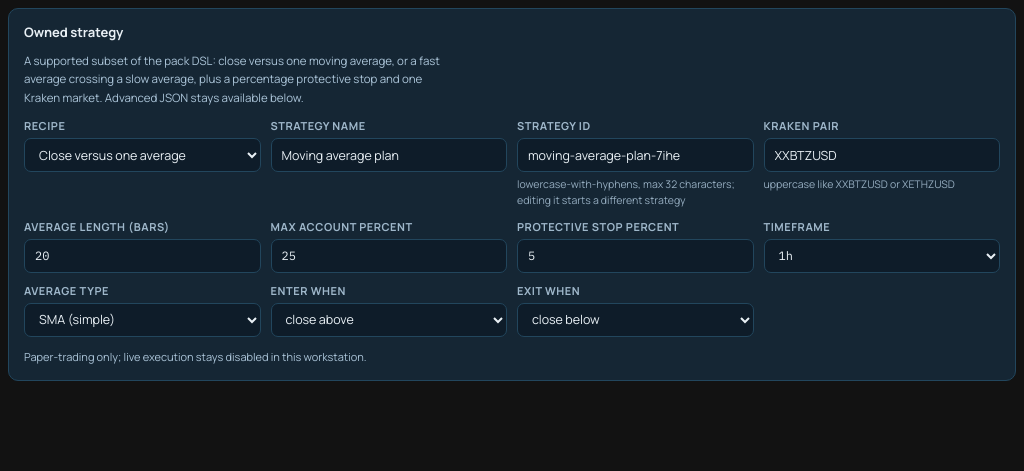
Test: OwnedStrategyForm › refuses a crossover with a fast period at or above the slow period
The image size is (1024, 471).
Select "Two-average crossover (fast vs slow)" in the dropdown labelled "Recipe" at (142, 155), box [24,138,260,172]
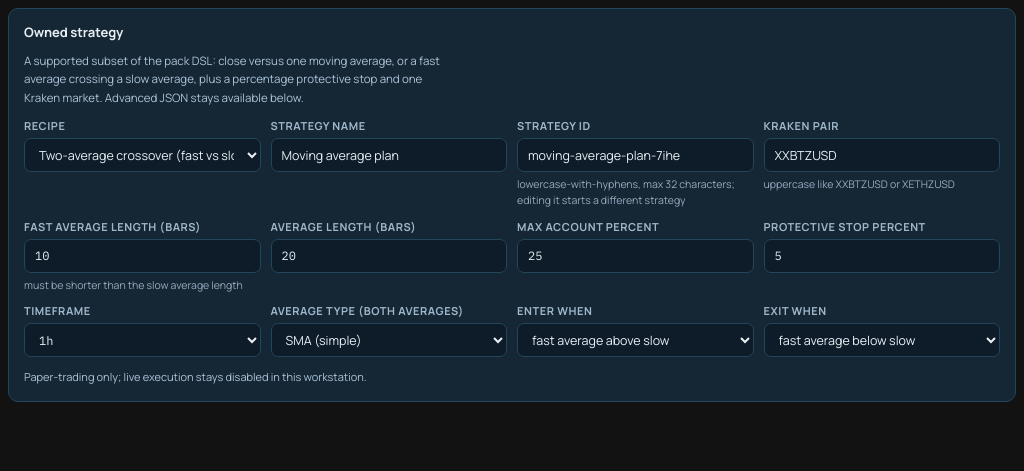
Replace the text in the field labelled "Fast average length" with "20" at (142, 256), box [24,239,260,273]
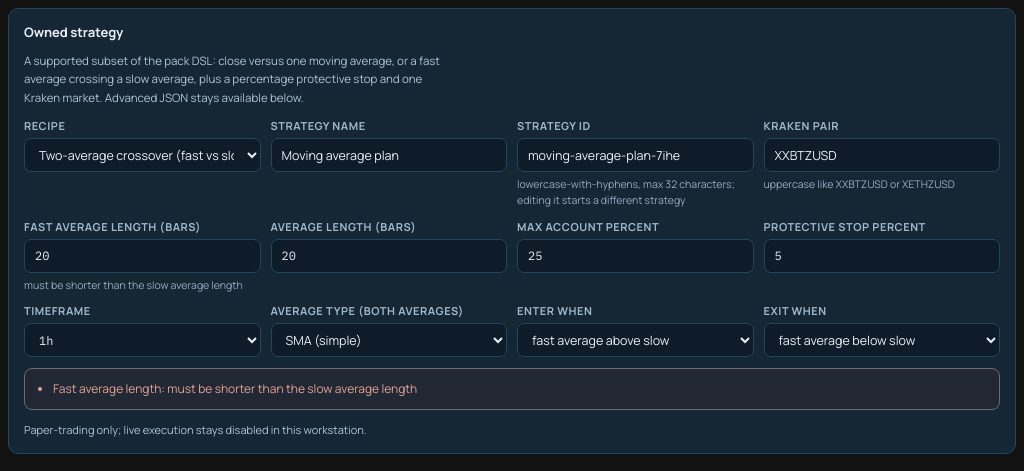
expect the list with test id "owned-strategy-form-problems" shows "shorter than the slow": met, box [53,380,417,397]
